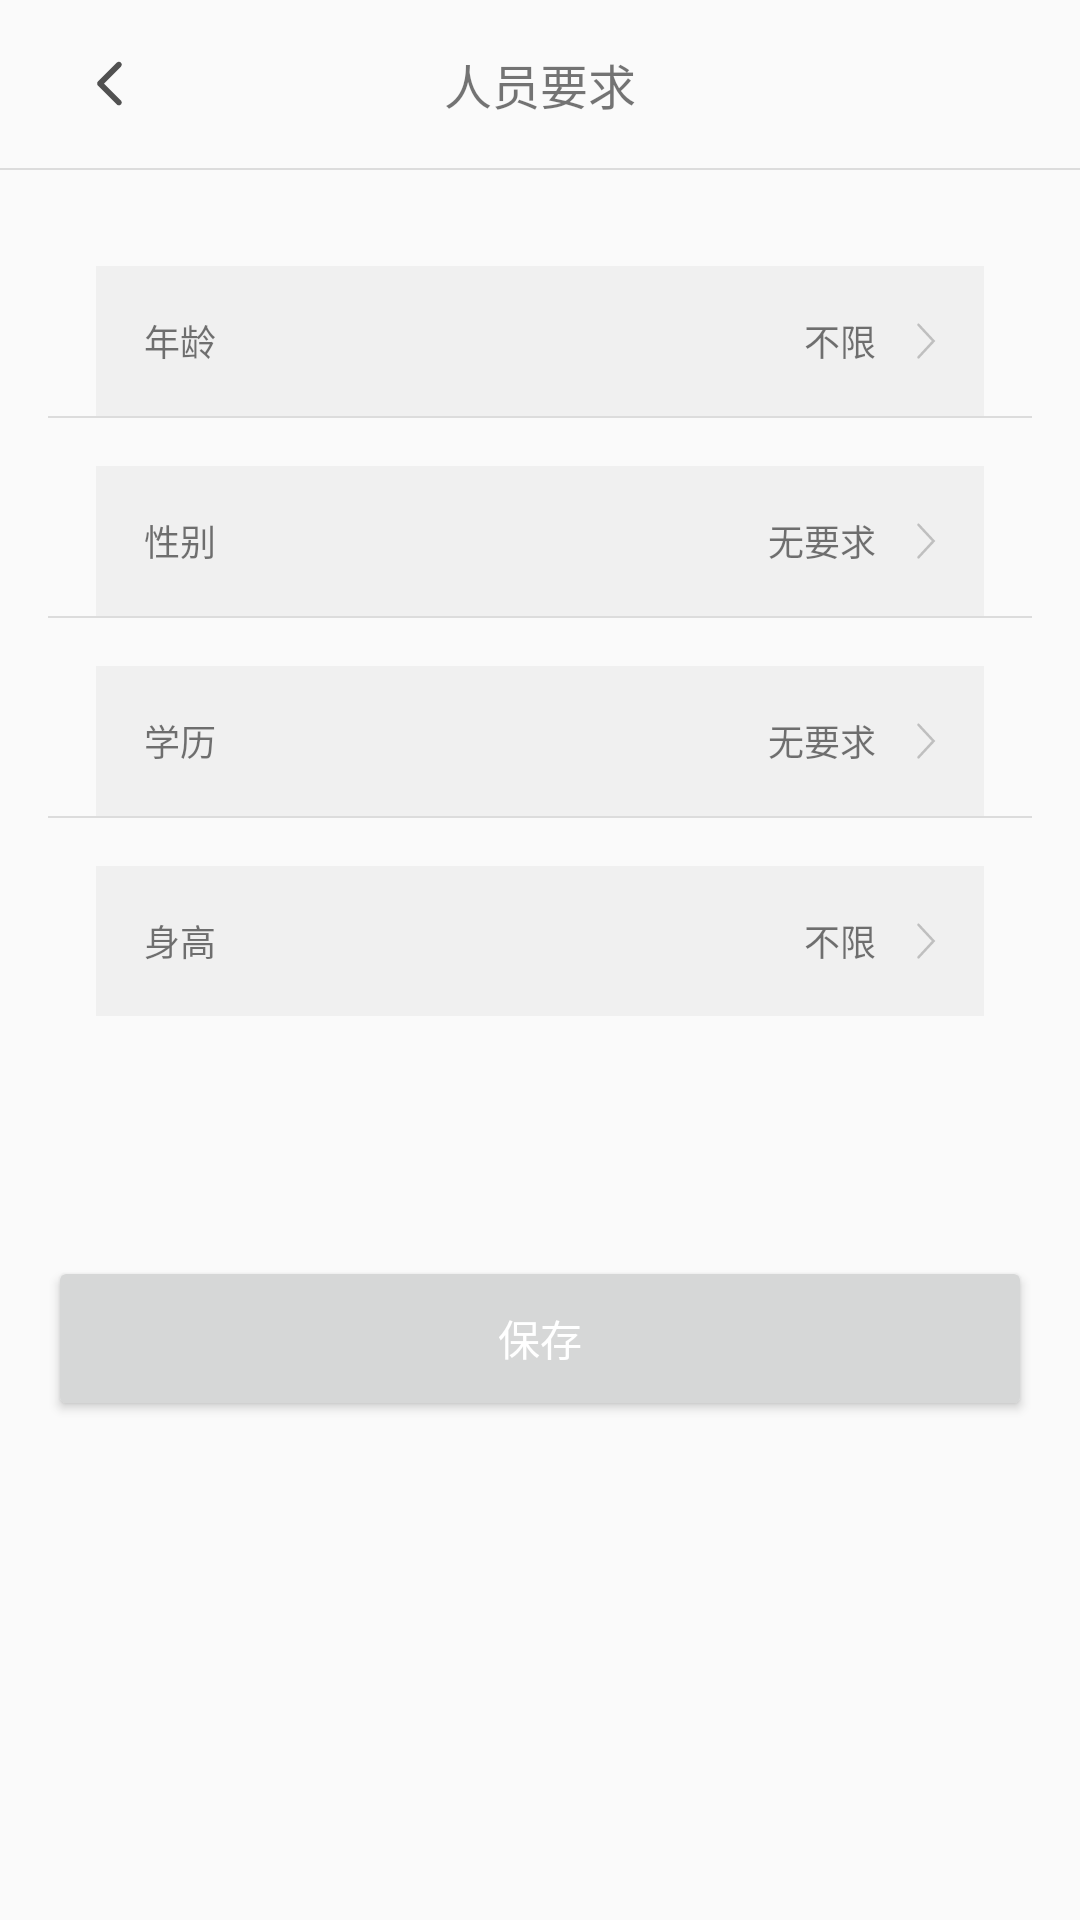

Point at icon controls on the screen. Image size 1080 x 1920, points as (x=x, y=y).
back: (x=109, y=83)
enter: (x=926, y=341), (x=926, y=541), (x=926, y=741), (x=926, y=941)
